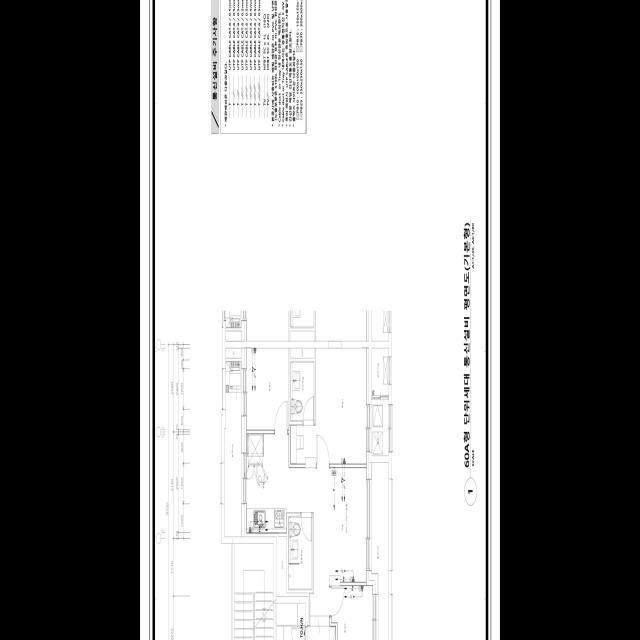background: (140, 0, 500, 640)
space_balconi: (370, 462, 389, 640), (224, 361, 243, 536), (370, 399, 389, 455)
space_bedroom: (290, 348, 369, 464), (244, 348, 289, 430), (331, 580, 375, 640)
space_elevator_hall: (277, 603, 305, 640)
space_front: (307, 615, 336, 640)
space_kitchen: (244, 430, 289, 536)
space_living_room: (289, 467, 366, 616)
space_other: (277, 536, 308, 596), (290, 348, 314, 358), (290, 331, 314, 340), (226, 331, 241, 341), (226, 348, 241, 357)
space_outdoor_room: (372, 348, 389, 395)
space_staircase: (234, 543, 273, 640)
space_toilet: (288, 516, 312, 589), (290, 361, 314, 421)
